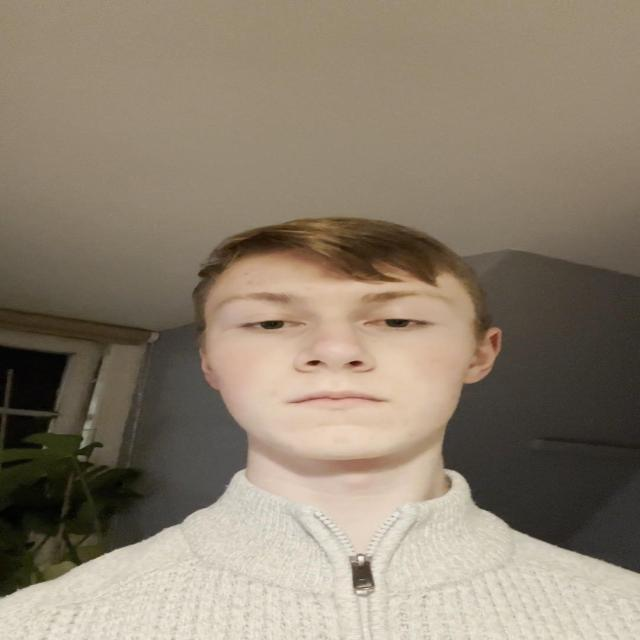no-helmet: (188, 217, 492, 496)
